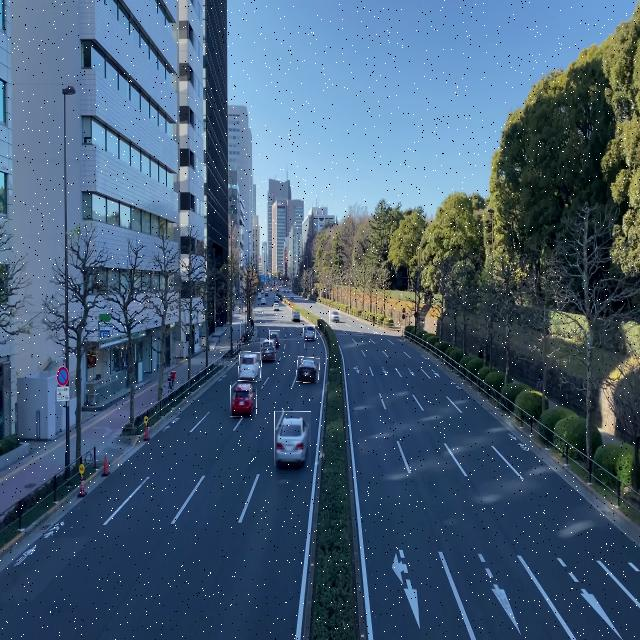Car: (274, 411, 311, 466), (231, 381, 257, 417), (239, 352, 262, 381), (297, 357, 320, 382), (260, 338, 276, 360), (304, 326, 316, 340), (269, 330, 280, 345), (329, 310, 340, 324), (291, 309, 300, 323)
